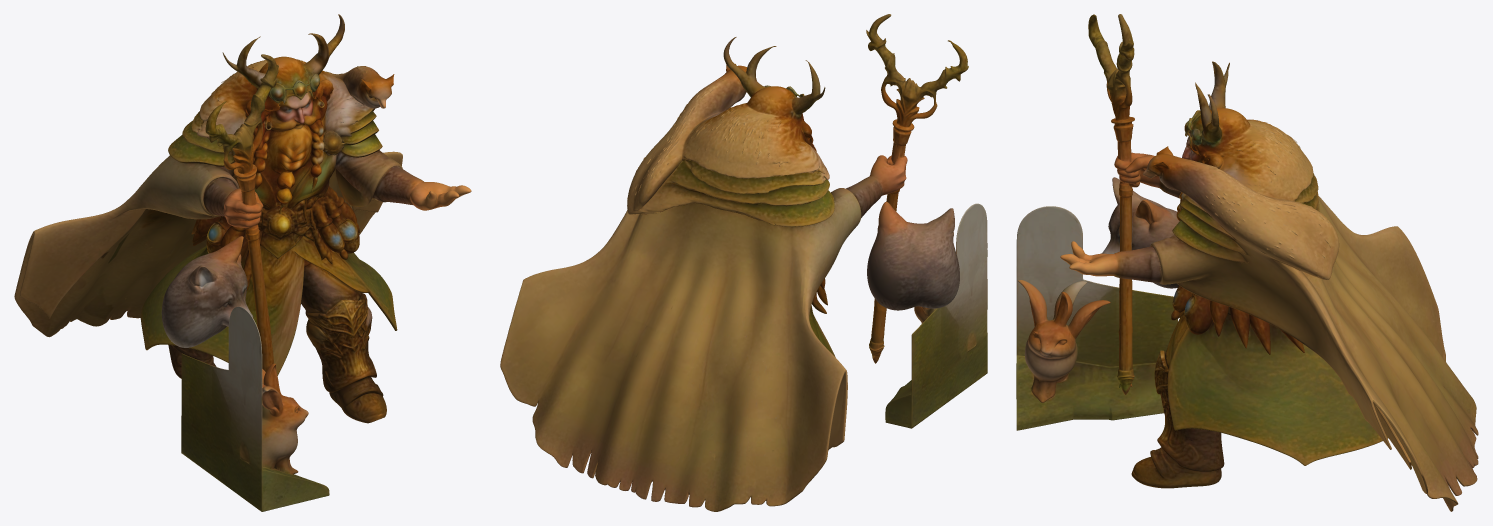
Rendered from dwarf_druid_full_male_01.glb.
3 views of the same model, side by side, from view 1: azimuth 30°, elevation 25°; view 2: azimuth 150°, elevation 25°; view 3: azimuth 270°, elevation 25° (orthographic). The views are drawn at different scales.
Parts seen in each view (by area): view 1: material; view 2: material; view 3: material.
Part boxes in pixels (x1,y1,x2,y2): material: (14, 14, 471, 511); material: (500, 14, 987, 511); material: (1016, 14, 1478, 511).
Bounding box in the file's own units: 0.7081 × 0.7585 × 0.7727.
Materials: 1 (1 with a texture image).
